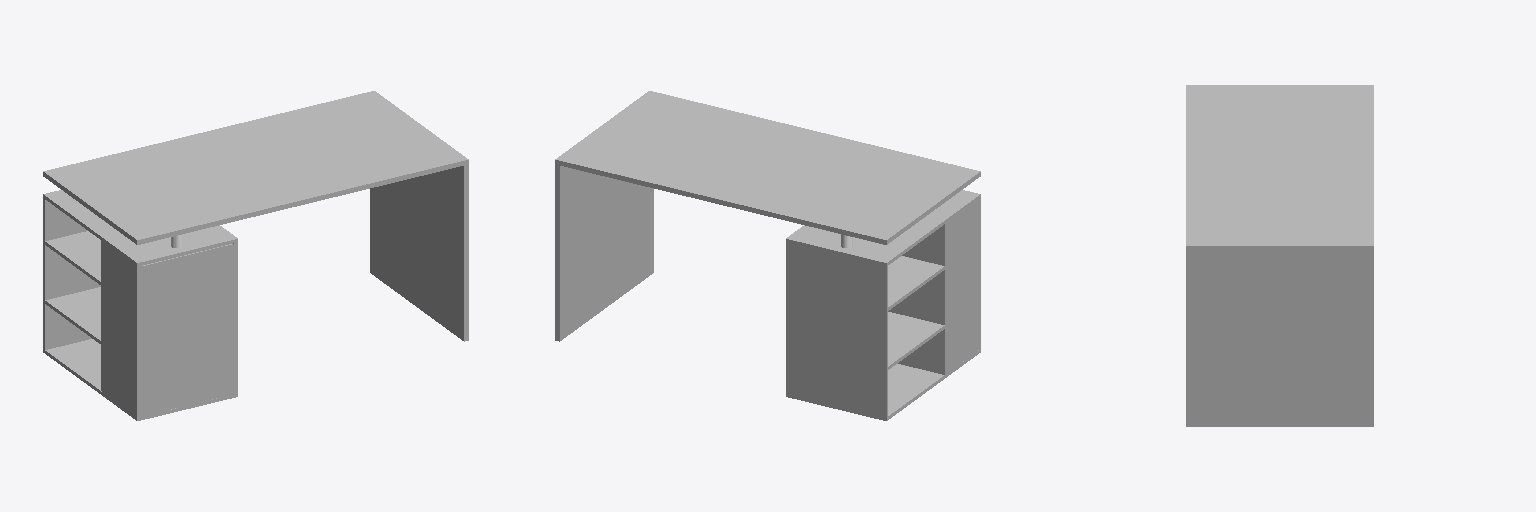
Rendered from ULLITS.obj.
3 views of the same model, side by side, from view 1: azimuth 30°, elevation 25°; view 2: azimuth 150°, elevation 25°; view 3: azimuth 270°, elevation 25° (orthographic).
Parts seen in each view (by area): view 1: Cube.010_Cube.011, Cube.011_Cube.012; view 2: Cube.010_Cube.011; view 3: Cube.010_Cube.011.
Part boxes in pixels (bbox=[...]): Cube.010_Cube.011: bbox=[43, 91, 468, 420]; Cube.011_Cube.012: bbox=[142, 244, 233, 416]; Cube.010_Cube.011: bbox=[555, 91, 980, 420]; Cube.010_Cube.011: bbox=[1186, 85, 1373, 426].
Bounding box in the file's own units: 2.8 × 1.46 × 1.38.